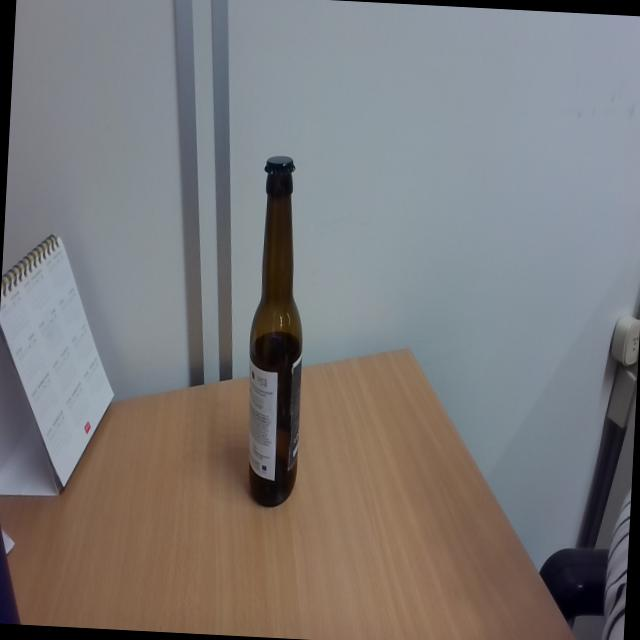Bottle: (241, 153, 314, 508)
Cap: (263, 153, 296, 180)
Label: (245, 356, 303, 479)
